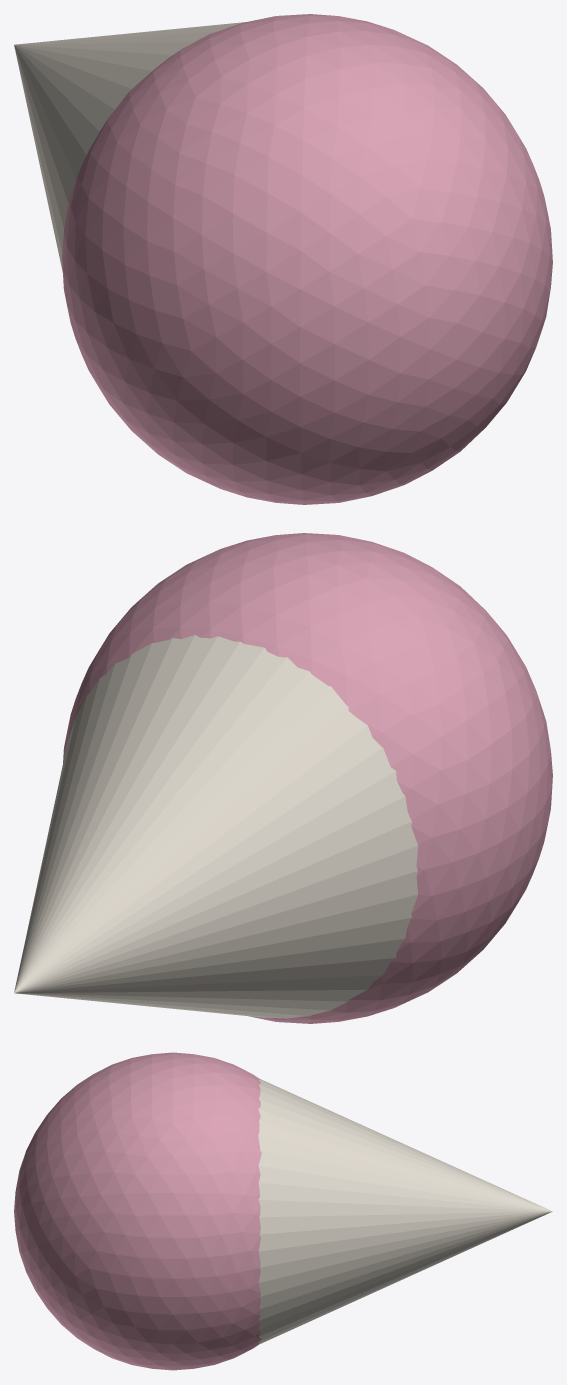
Rendered from icecream.glb.
The picture shows the model from 3 angles, top to bottom: view 1: azimuth 30°, elevation 25°; view 2: azimuth 150°, elevation 25°; view 3: azimuth 270°, elevation 25°; orthographic projection. The views are drawn at different scales.
Parts seen in each view (by area): view 1: geometry_0; view 2: geometry_0; view 3: geometry_0.
Part boxes in pixels (x1,y1,x2,y2): geometry_0: (14,14,552,504); geometry_0: (14,533,552,1023); geometry_0: (14,1052,552,1370).
Size of the model in its own units: 0.3659 by 0.3659 by 0.62.
